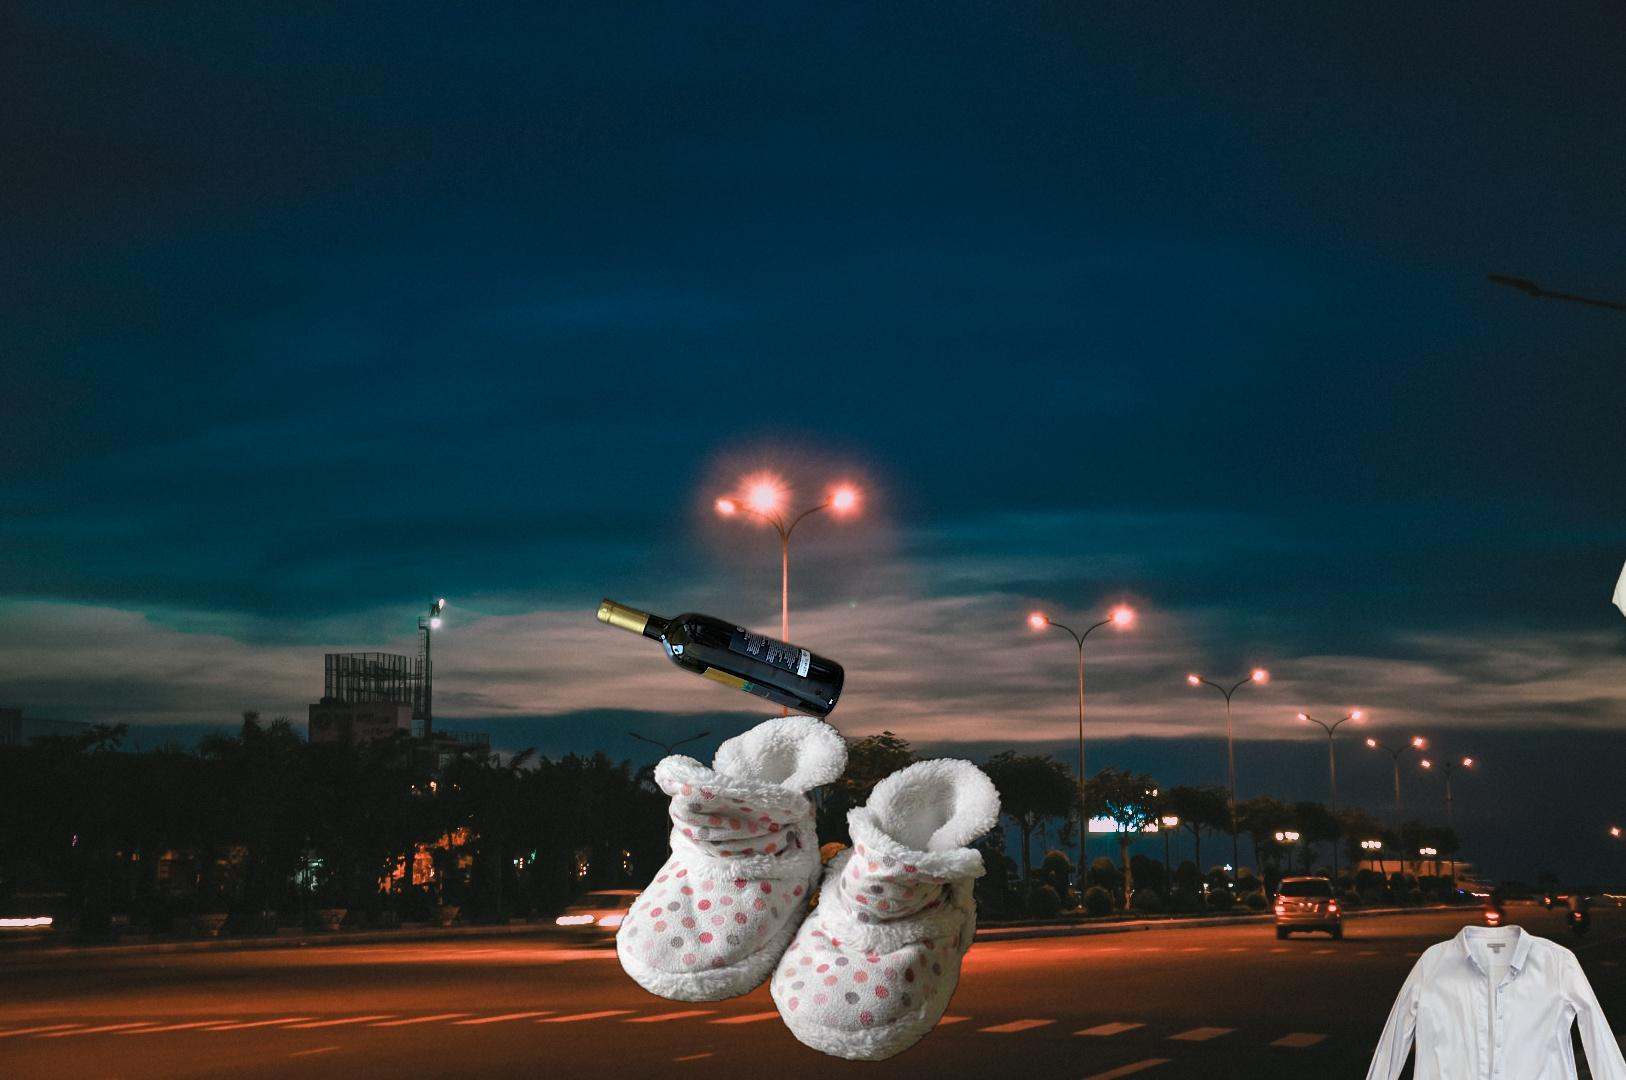clothes: (1336, 920, 1626, 1080)
glass: (592, 593, 849, 724)
plastic-bottles: (1607, 494, 1626, 628)
shoes: (610, 711, 1007, 1066)
